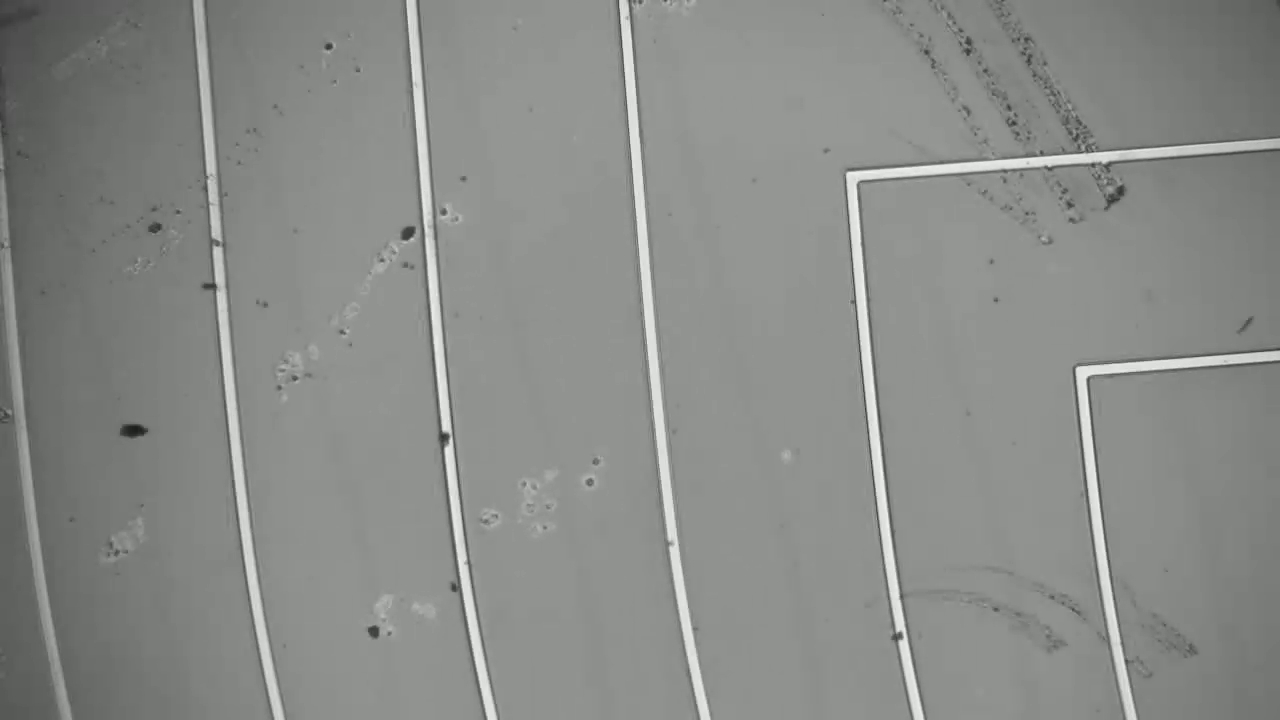scratch: (881, 5, 1121, 248), (954, 583, 1206, 675)
stains_enbedded: (424, 416, 472, 458), (881, 619, 921, 653), (200, 223, 240, 255)
